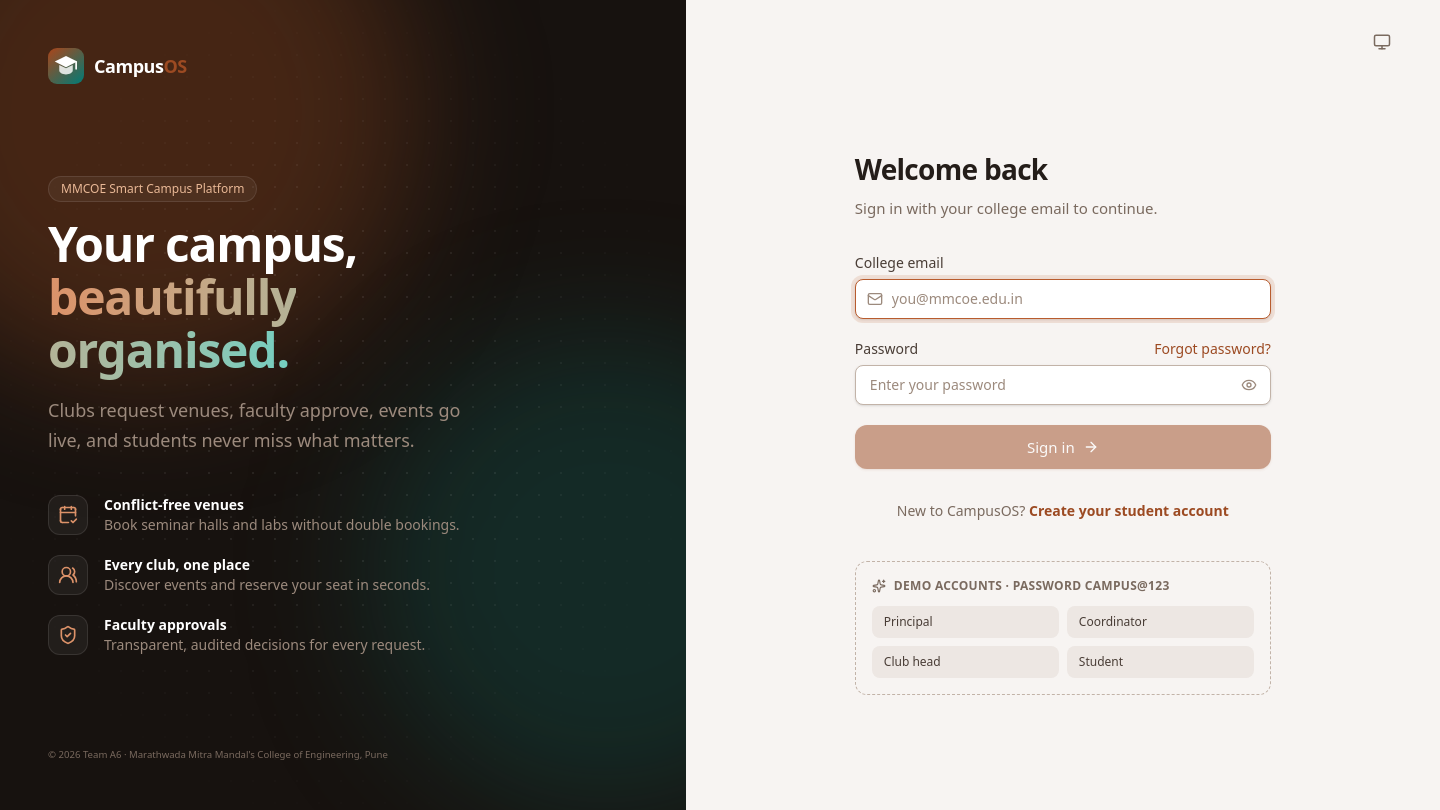
Test: sign in › sends an unverified user to verification with a fresh code
The width and height of the screenshot is (1440, 810).
In the field labelled "College email": (1063, 299) [855, 279, 1271, 319], type "a@mmcoe.edu.in"
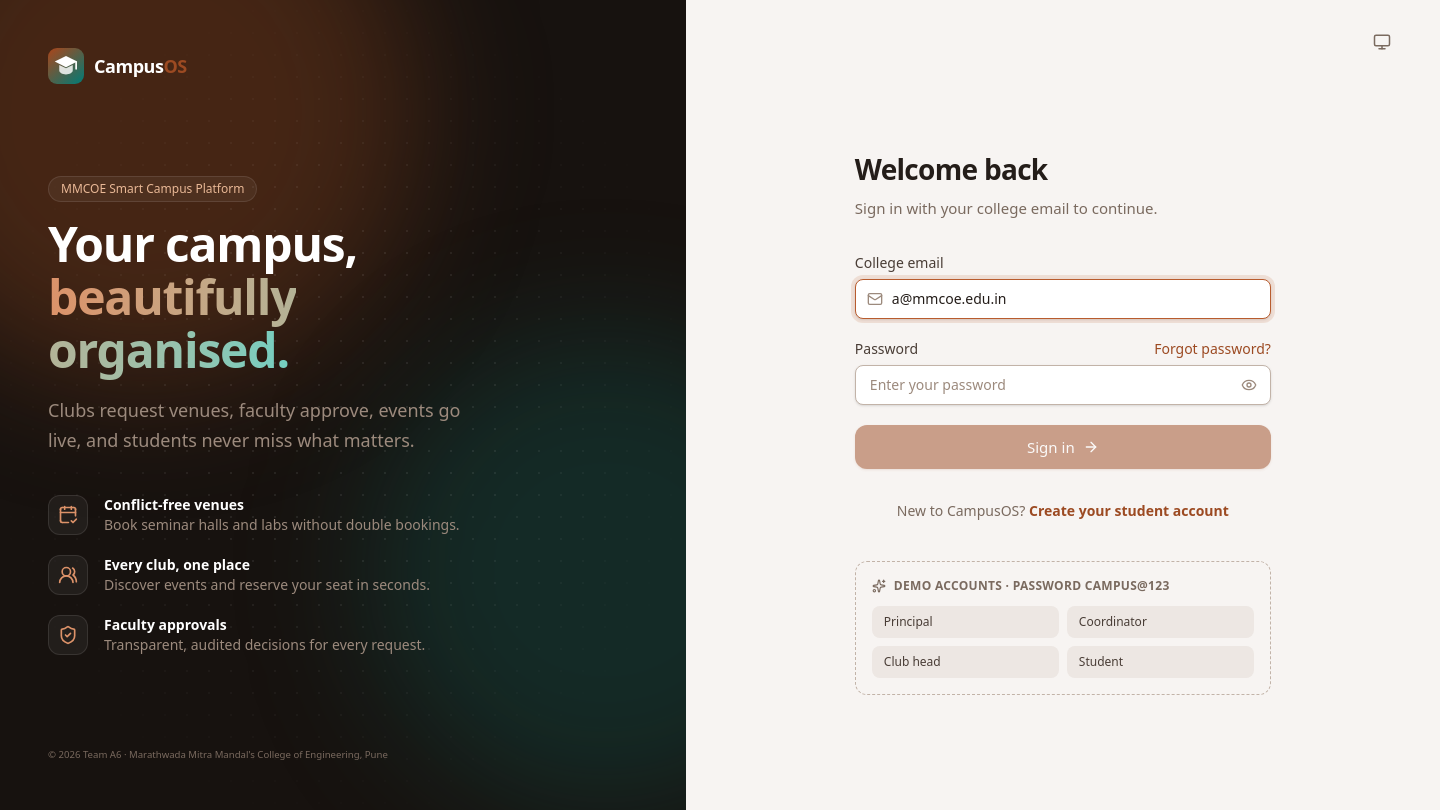
In the password field labelled "Password": (1063, 385) [855, 365, 1271, 405], type "Violet-Lantern-42"
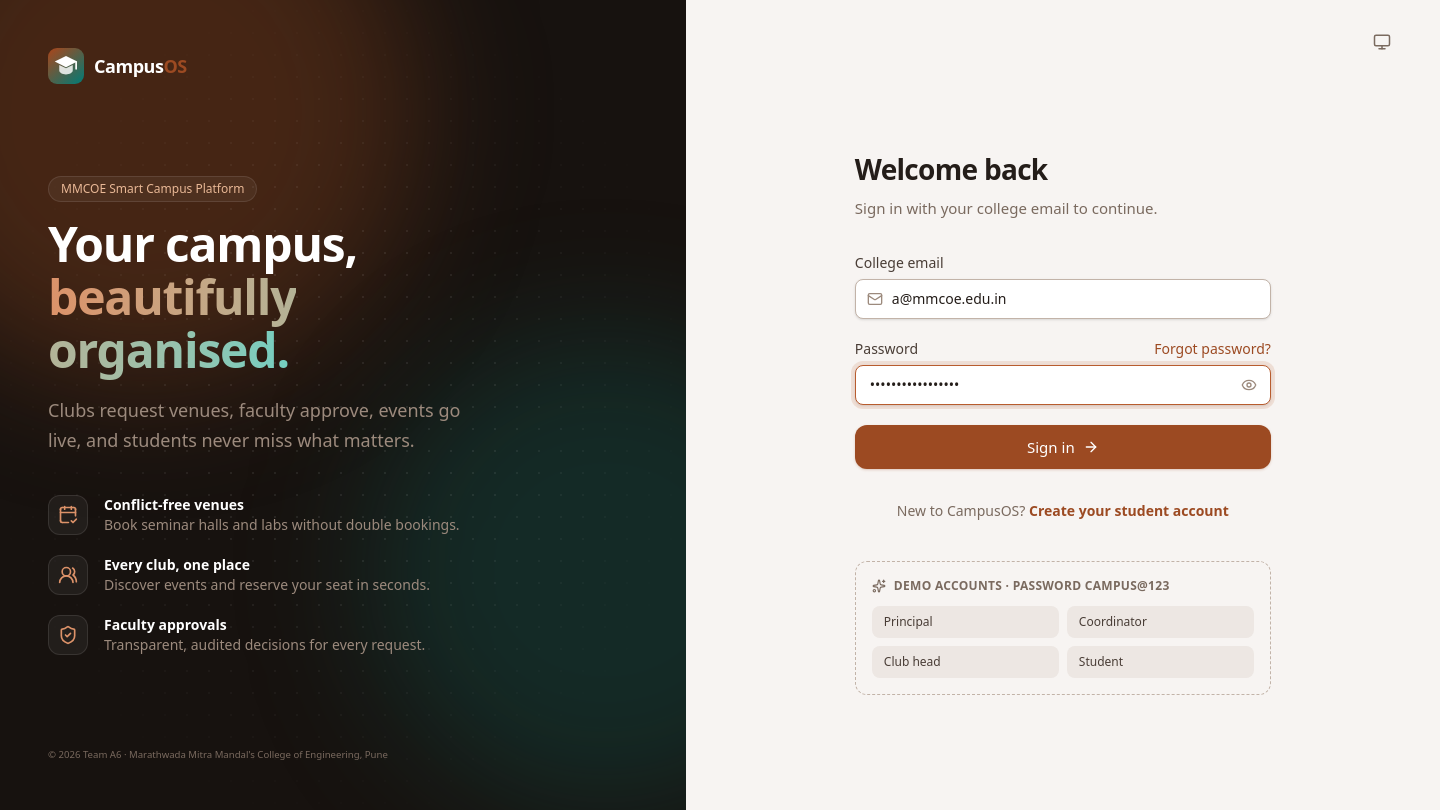
Click the button "Sign in": (1063, 447) [855, 425, 1271, 469]
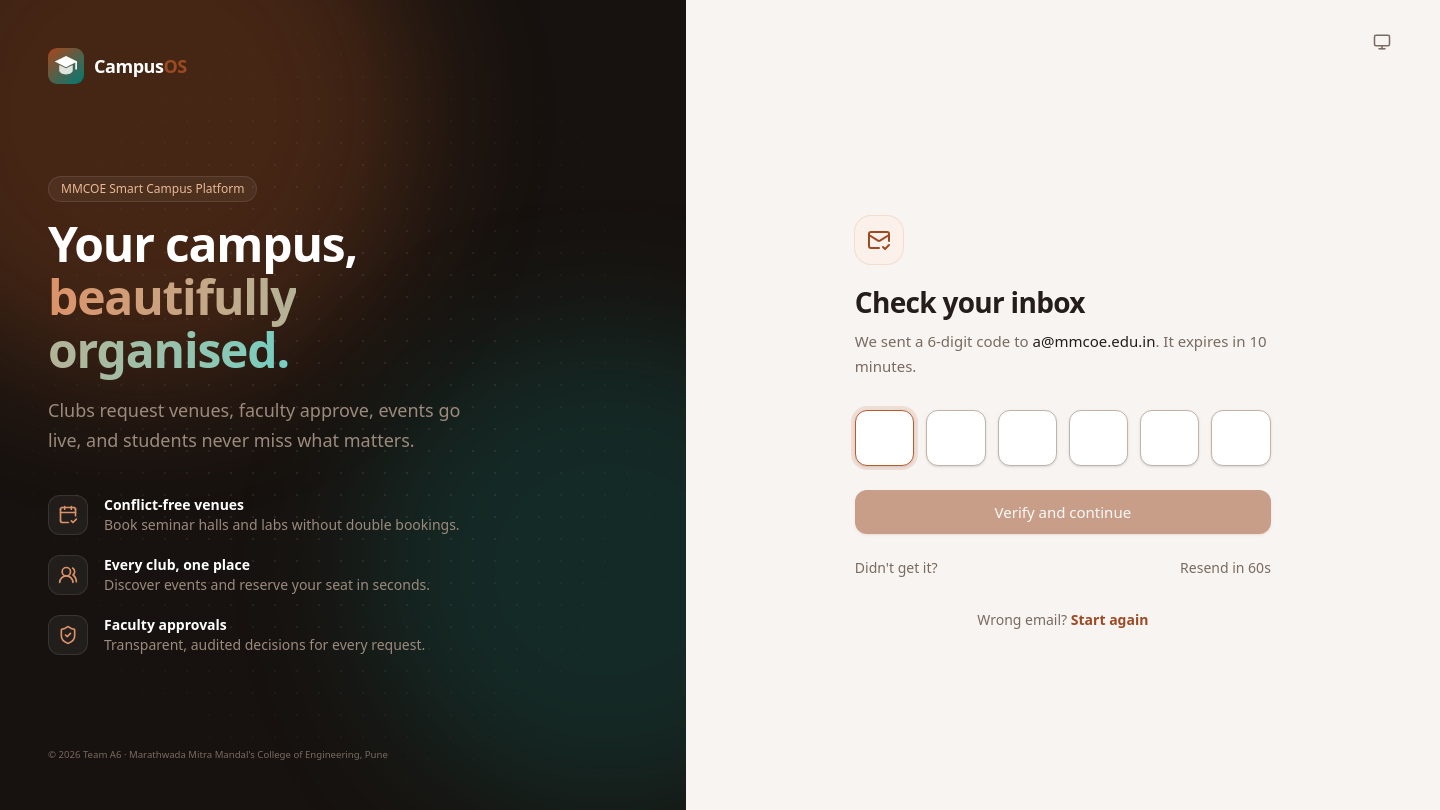
Check: the heading "Check your inbox" is shown, box [855, 283, 1085, 321]
Check: the text "a@mmcoe.edu.in" is shown, box [1033, 331, 1155, 351]
